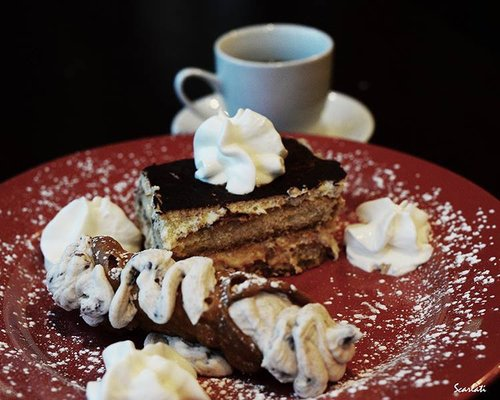pizza: (171, 23, 335, 138)
